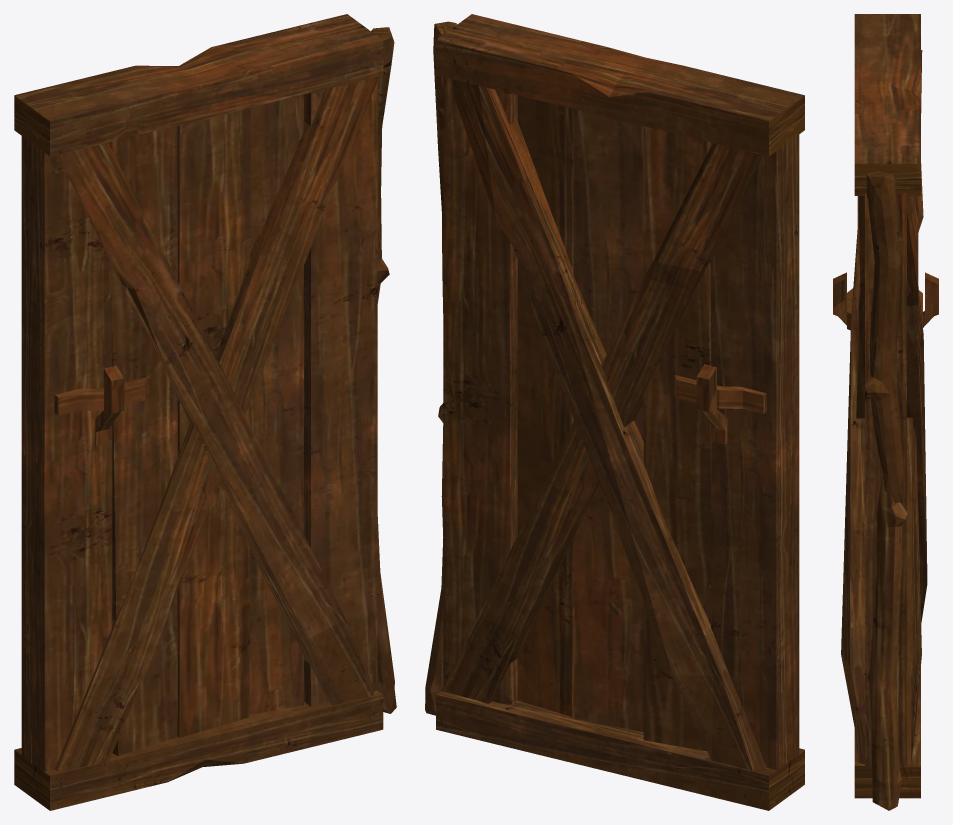
3 renders of one model, left to right at view 1: azimuth 30°, elevation 25°; view 2: azimuth 150°, elevation 25°; view 3: azimuth 270°, elevation 25°, orthographic. The views are drawn at different scales.
Visible parts, largest first — view 1: SM_BB_T2_Door_LOD0; view 2: SM_BB_T2_Door_LOD0; view 3: SM_BB_T2_Door_LOD0.
Boxes of the visible parts, x1=… form: SM_BB_T2_Door_LOD0: x1=14, y1=14, x2=396, y2=810; SM_BB_T2_Door_LOD0: x1=425, y1=14, x2=804, y2=810; SM_BB_T2_Door_LOD0: x1=833, y1=14, x2=938, y2=810.
Bounding box in the file's own units: 1.38 × 2.52 × 0.3802.
Materials: 1 (1 with a texture image).
